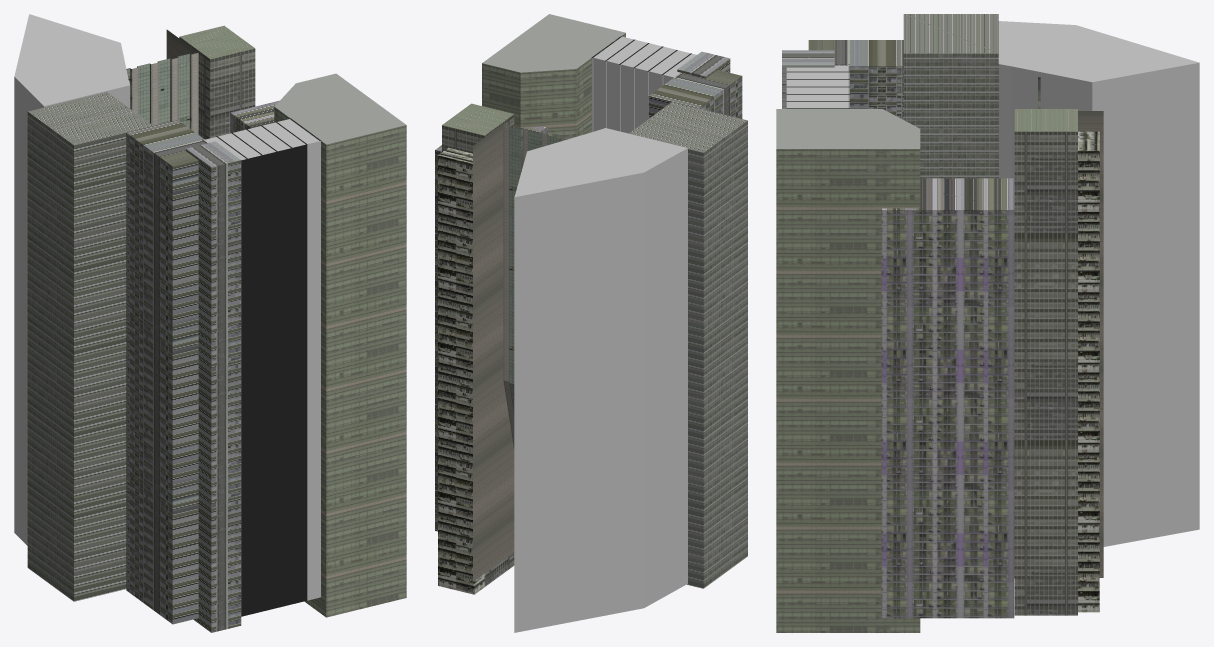
The model's file is SM_LDFest_16_Blockout01.fbx.
The picture shows the model from 3 angles, left to right: view 1: azimuth 30°, elevation 25°; view 2: azimuth 150°, elevation 25°; view 3: azimuth 270°, elevation 25°; orthographic projection. The views are drawn at different scales.
Parts seen in each view (by area): view 1: SM_LDFest_16_Blockout01; view 2: SM_LDFest_16_Blockout01; view 3: SM_LDFest_16_Blockout01.
Boxes of the visible parts, x1,y1,x2,y2 form: SM_LDFest_16_Blockout01: (14, 14, 406, 632); SM_LDFest_16_Blockout01: (435, 14, 747, 632); SM_LDFest_16_Blockout01: (776, 14, 1199, 632).
Bounding box in the file's own units: 13834 × 22968 × 18121.
